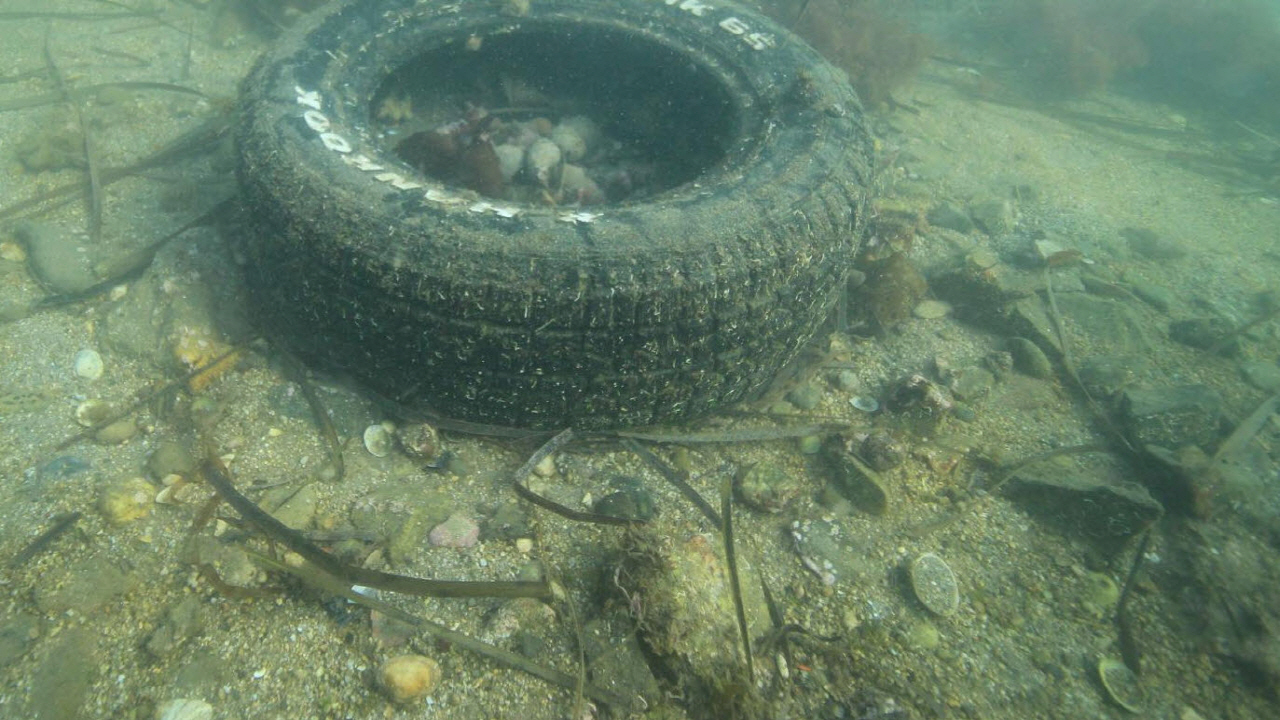tire: (231, 0, 875, 428)
